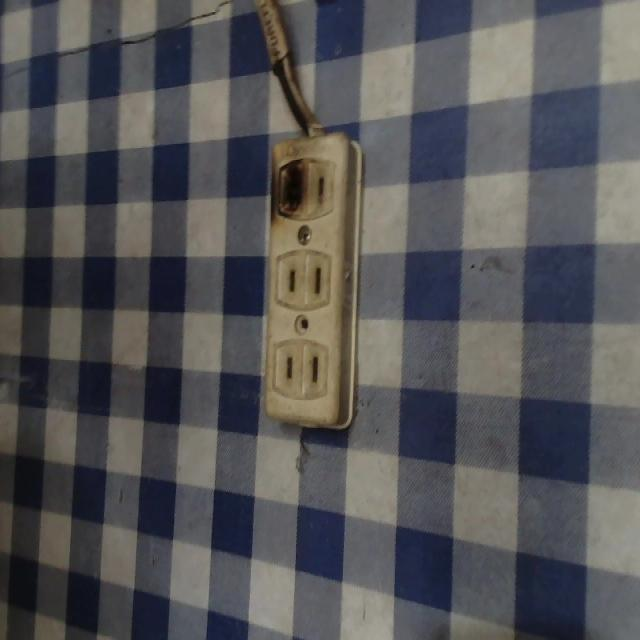-: (271, 159, 306, 221)
